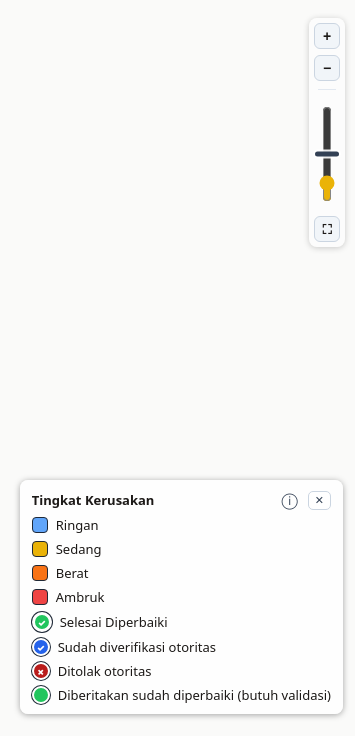
MapView: legenda bisa di-hide + memuat baris Selesai Diperbaiki (hijau) › legenda tampil (Ringan biru muda, Selesai Diperbaiki hijau); ✕ menyembunyikan; tombol Legenda memunculkan lagi
Expected: the text "Tingkat Kerusakan" is shown, left=32, top=491, right=154, bottom=509
Expected: the text "Ringan" is shown, left=56, top=516, right=98, bottom=534
Click the button named "sembunyikan legenda": {"x": 319, "y": 500} left=308, top=490, right=331, bottom=510
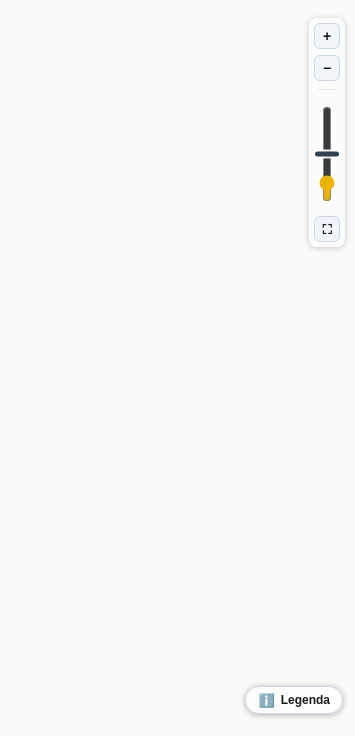
Now the text "Tingkat Kerusakan" is gone
Now the button "ℹ️ Legenda" is shown
Click the button "ℹ️ Legenda": {"x": 294, "y": 700} left=245, top=686, right=343, bottom=714
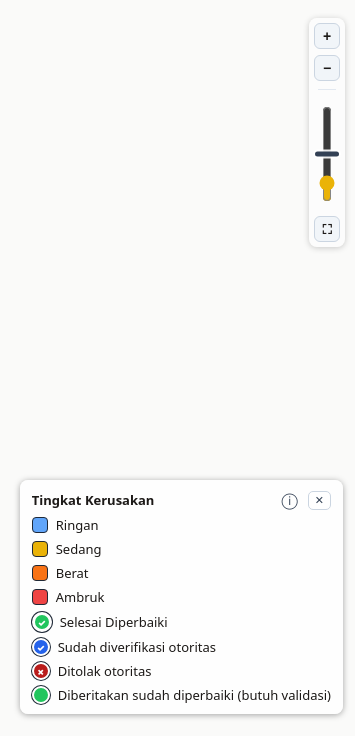
Now the text "Tingkat Kerusakan" is shown, box left=32, top=491, right=154, bottom=509
